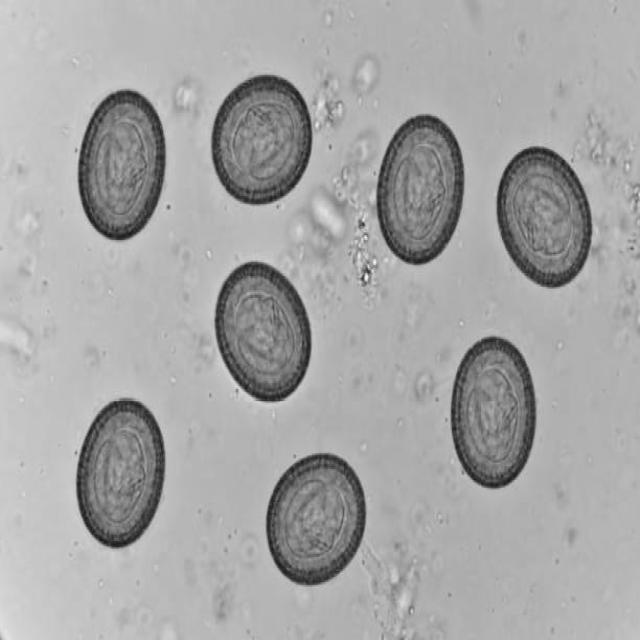Ascaris Lumbricoides: (261, 446, 370, 596), (490, 135, 594, 292), (210, 254, 314, 410), (206, 71, 320, 210), (74, 393, 169, 554), (376, 106, 466, 274), (75, 82, 168, 242), (446, 331, 540, 489)
